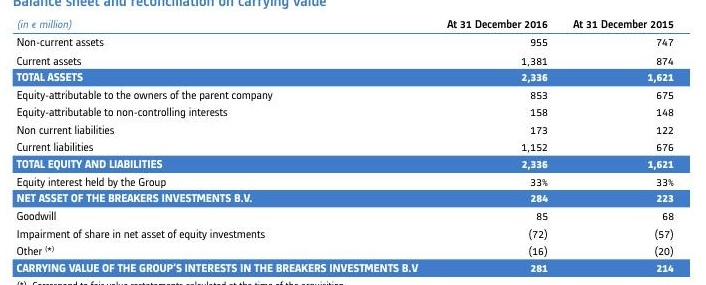table: (0, 0, 706, 285)
